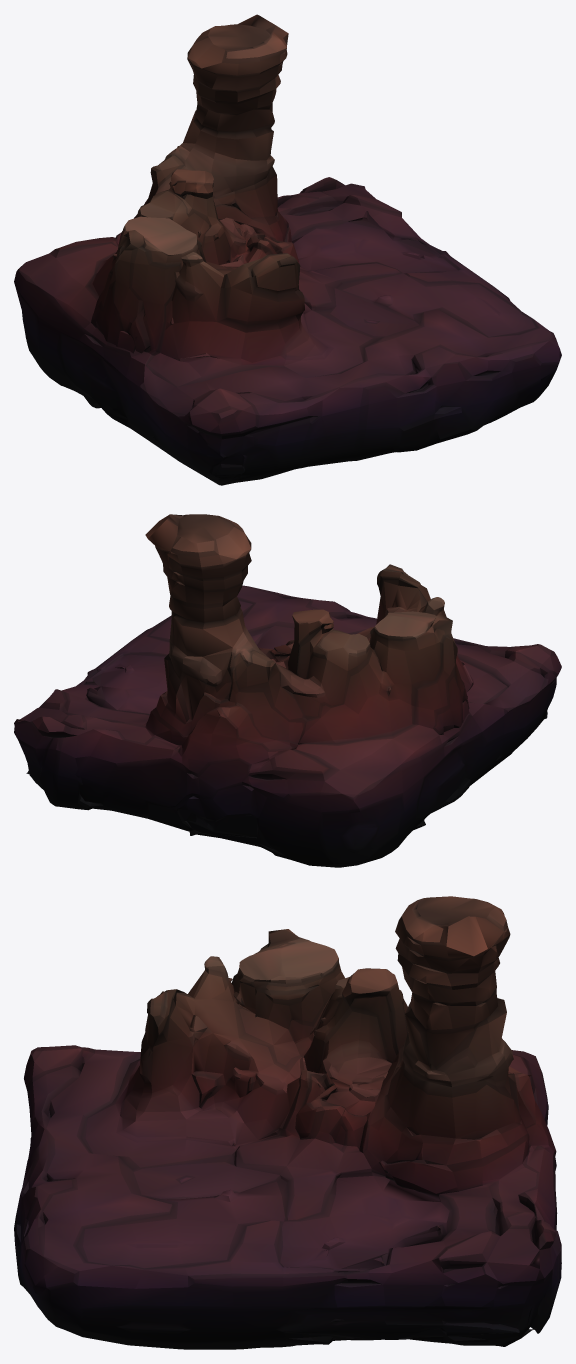
Rendered from coschamps_1.fbx.
3 views of the same model, one above another, from view 1: azimuth 30°, elevation 25°; view 2: azimuth 150°, elevation 25°; view 3: azimuth 270°, elevation 25° (orthographic). The views are drawn at different scales.
Parts seen in each view (by area): view 1: cliffrock_generator59.025; view 2: cliffrock_generator59.025; view 3: cliffrock_generator59.025.
Part boxes in pixels (bbox=[...]): cliffrock_generator59.025: bbox=[14, 14, 561, 485]; cliffrock_generator59.025: bbox=[14, 514, 561, 867]; cliffrock_generator59.025: bbox=[14, 896, 561, 1349].
Size of the model in its own units: 4450 by 3529 by 4606.
